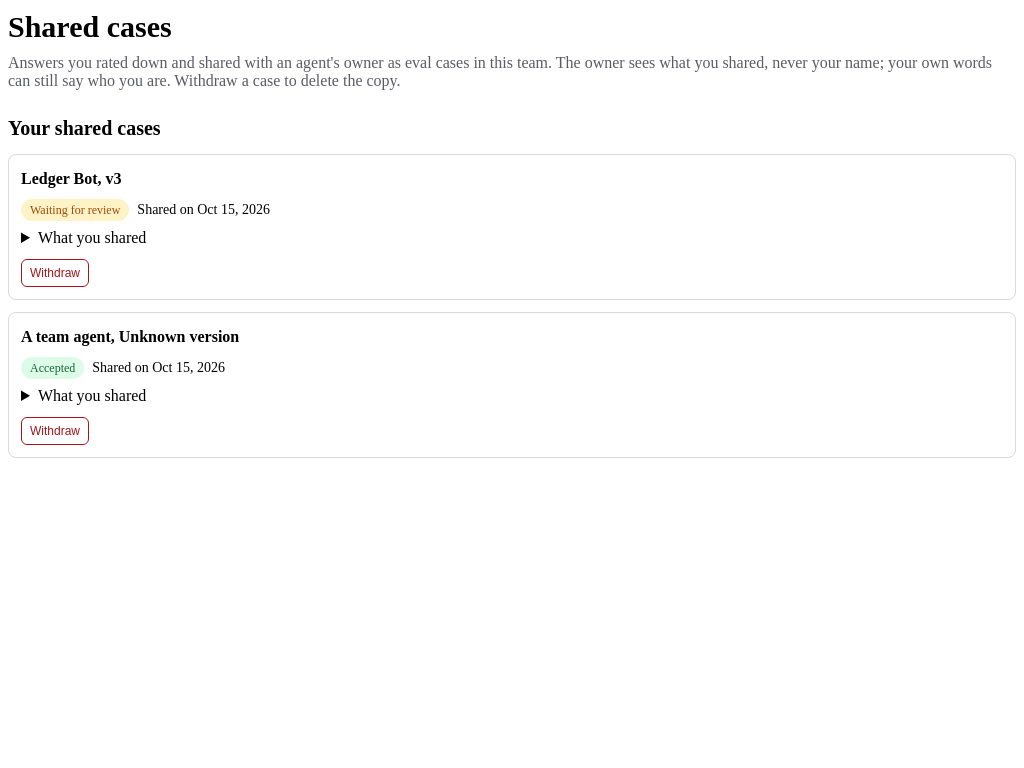
Test: My area, Shared cases (KOBE-276 ac-3) › withdraws after the console's confirm; Cancel sends nothing
Click the button "Withdraw" below "Waiting for review" at (55, 272), box [21,258,89,286]
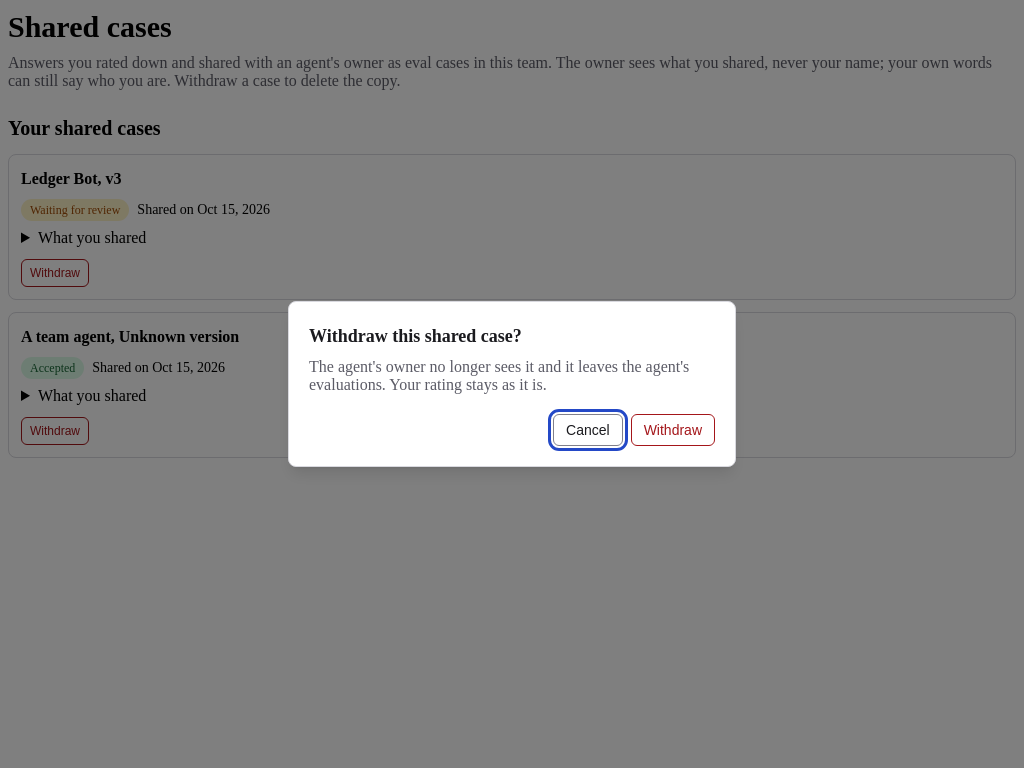
Click the button "Cancel" at (588, 430), box [553,414,623,446]
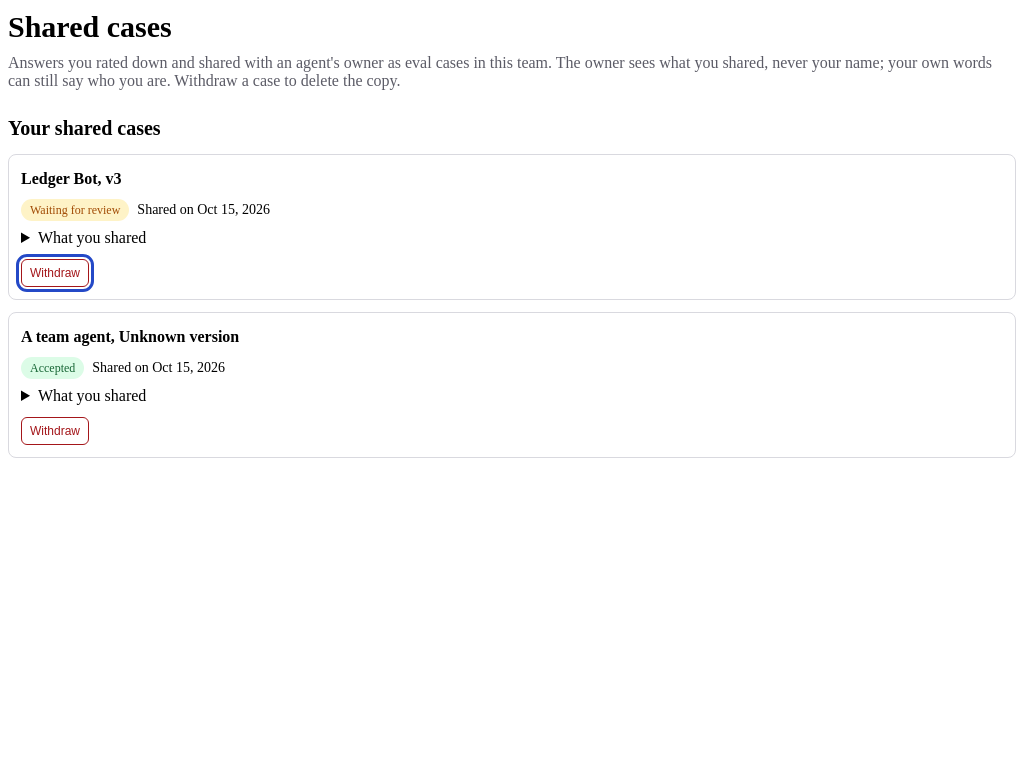
Click the button "Withdraw" below "Waiting for review" at (55, 272), box [21,258,89,286]
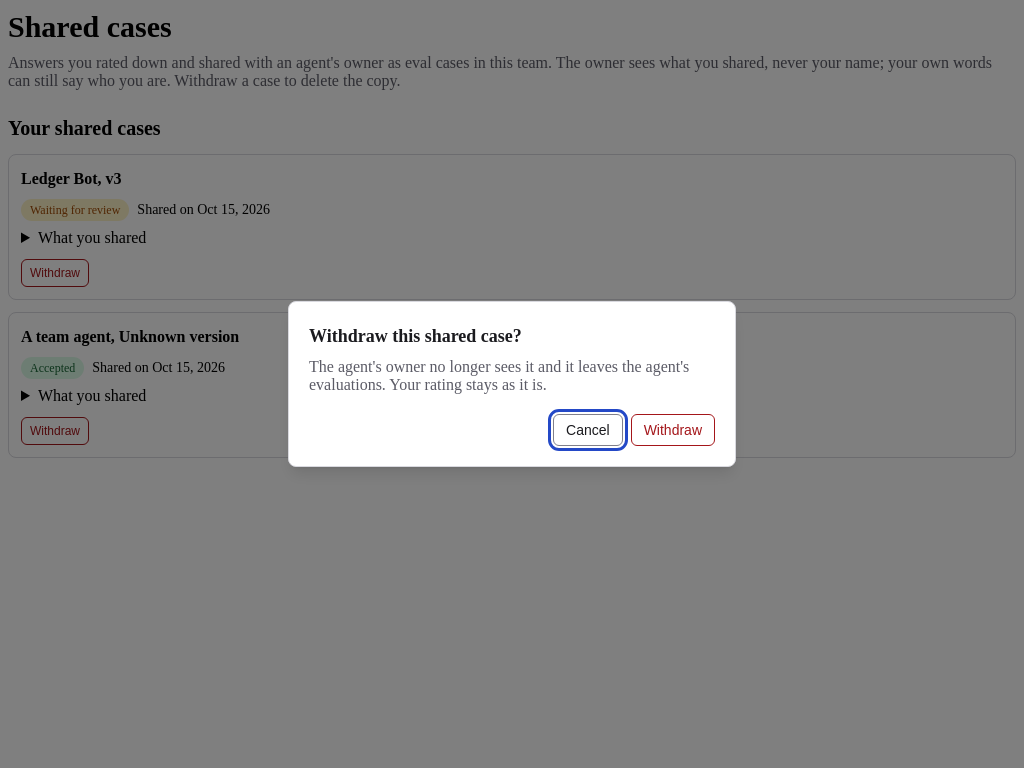
Click the button "Withdraw" at (673, 430), box [631,414,715,446]
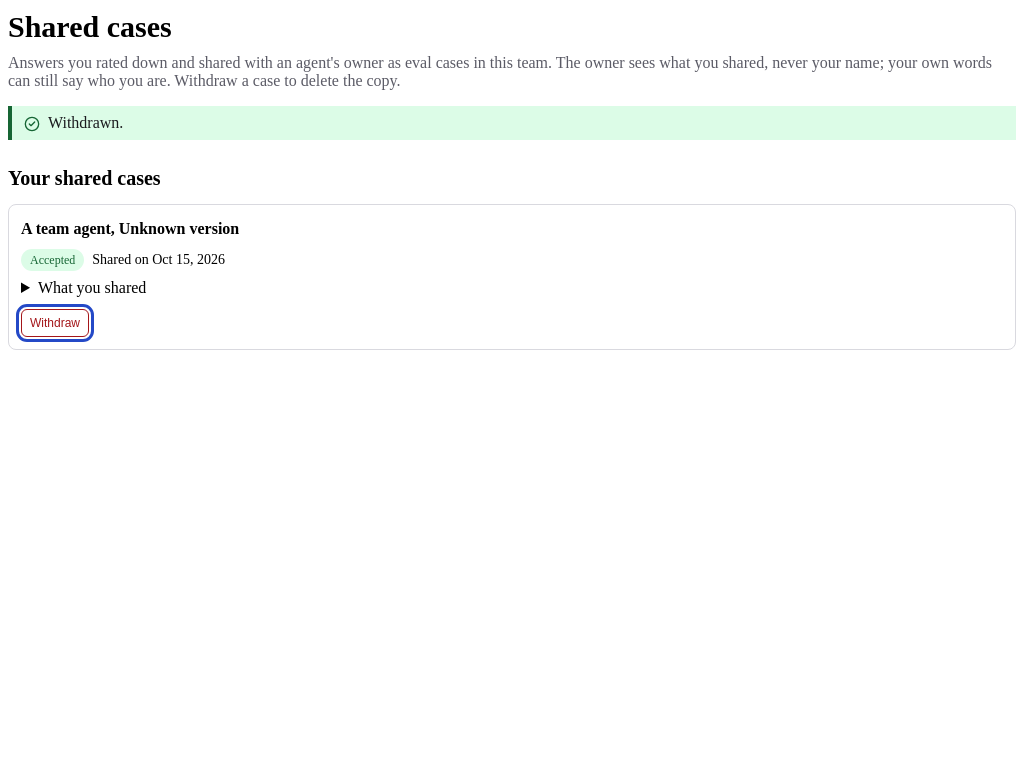
Expected: the text "Withdrawn." is shown, [48,114,123,130]
Expected: the number of list items is 1, [8,204,1016,350]
